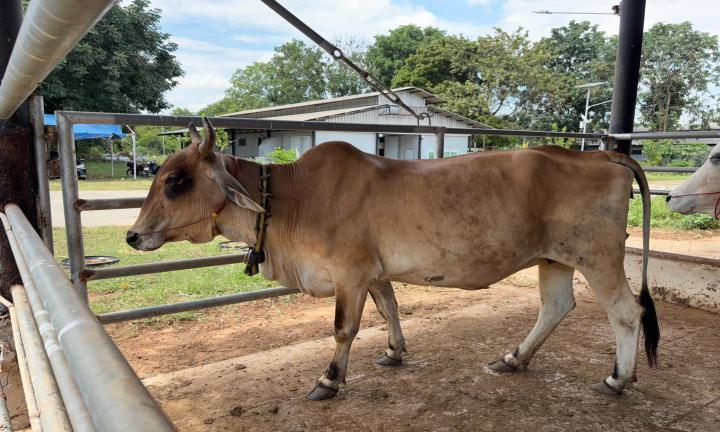Brahman: (126, 118, 659, 400)
